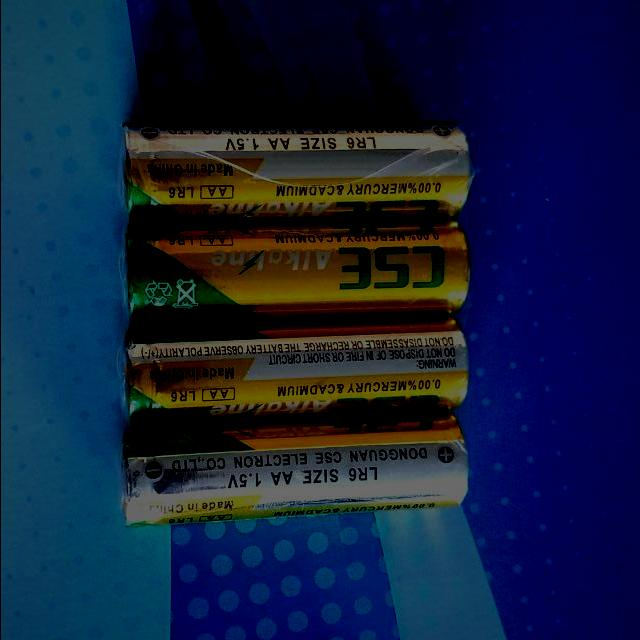AA: (115, 123, 477, 226), (117, 418, 470, 516), (113, 226, 473, 315), (115, 329, 473, 415)
